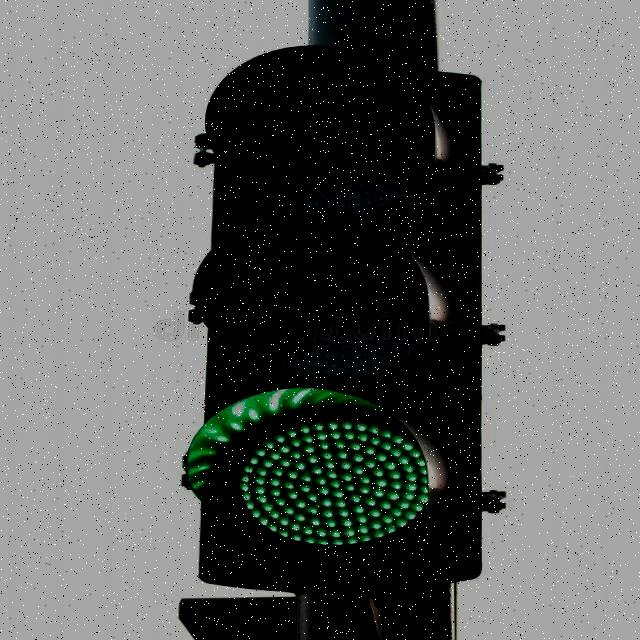Zielone swiatlo: (189, 52, 483, 569)
